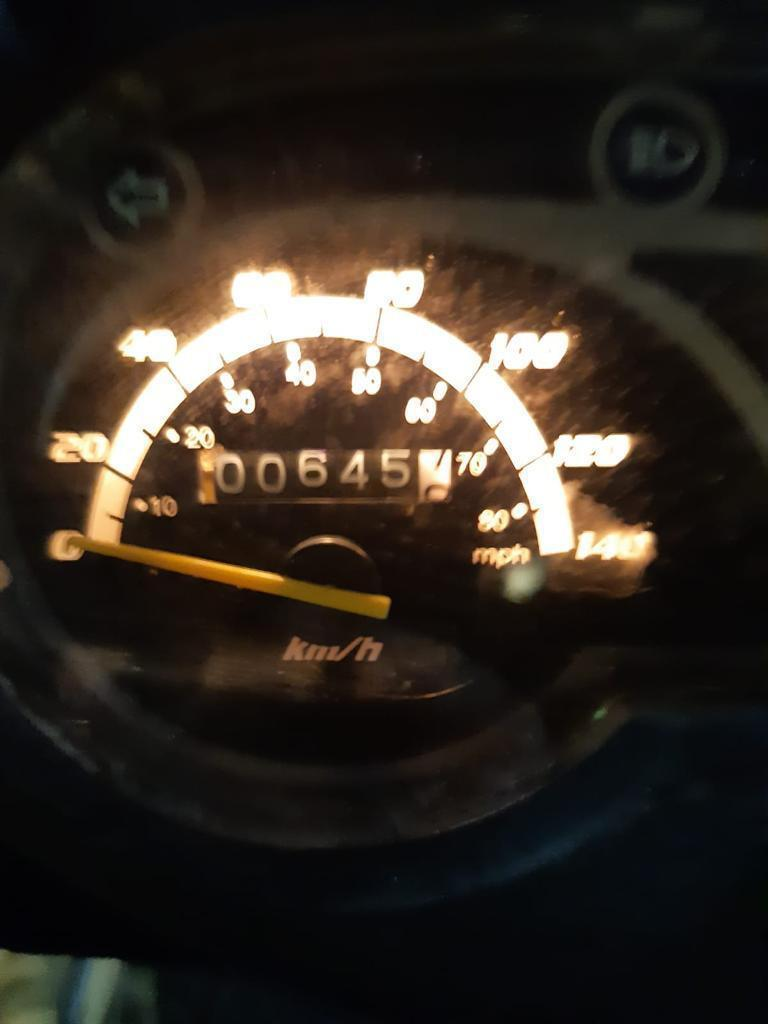0: (214, 449, 250, 495), (254, 452, 290, 497)
4: (338, 448, 372, 492)
5: (379, 447, 413, 491)
6: (297, 446, 332, 490)
7: (425, 444, 451, 477)
odometer: (185, 444, 456, 508)
